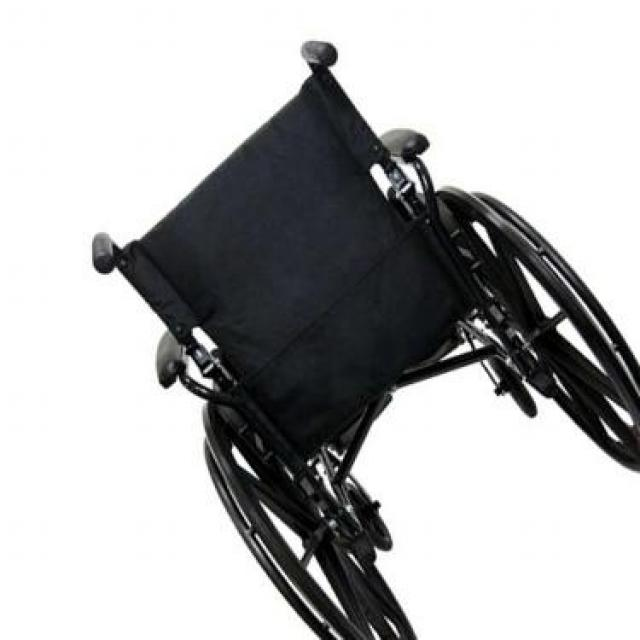wheelchair: (70, 19, 640, 640)
